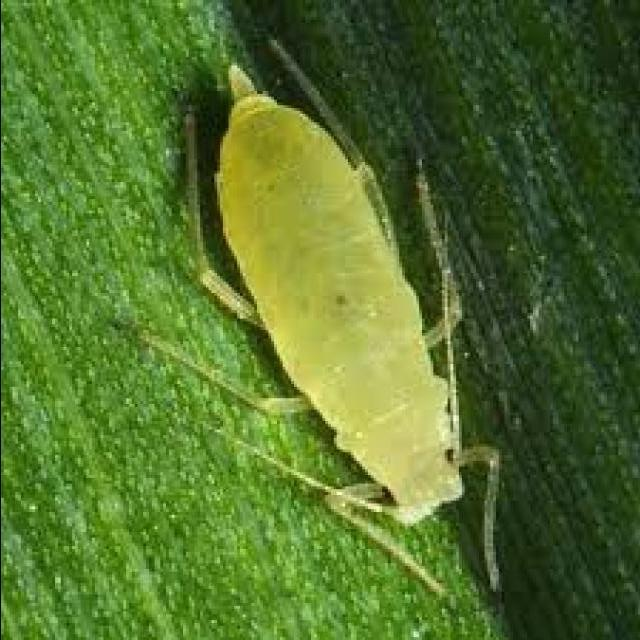aphid: (132, 54, 545, 610)
